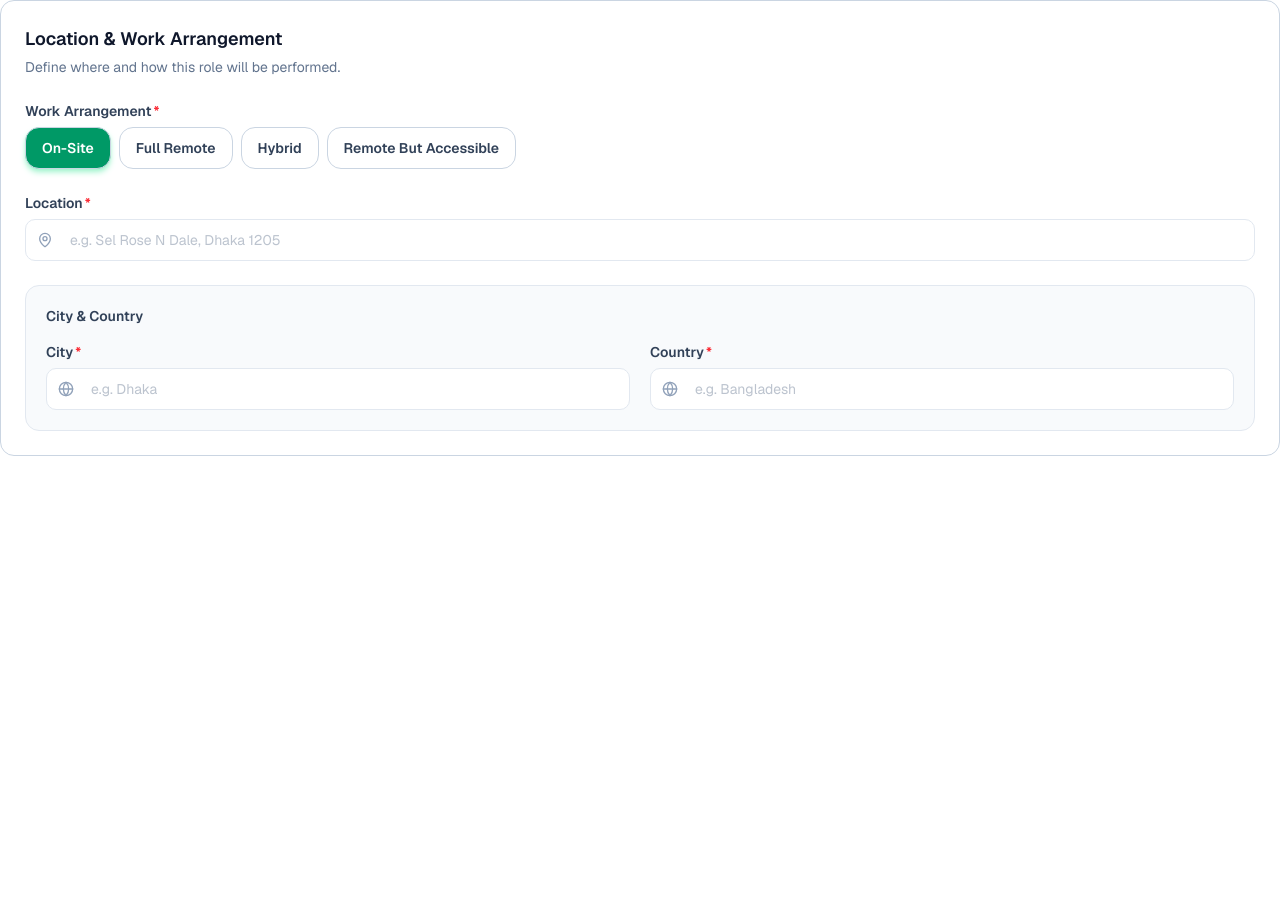
it: Step3Location › shows optional hint for FullRemote
The image size is (1280, 900).
Click the radio button labelled "Full Remote".
click(176, 148)  # box [119,127,233,169]
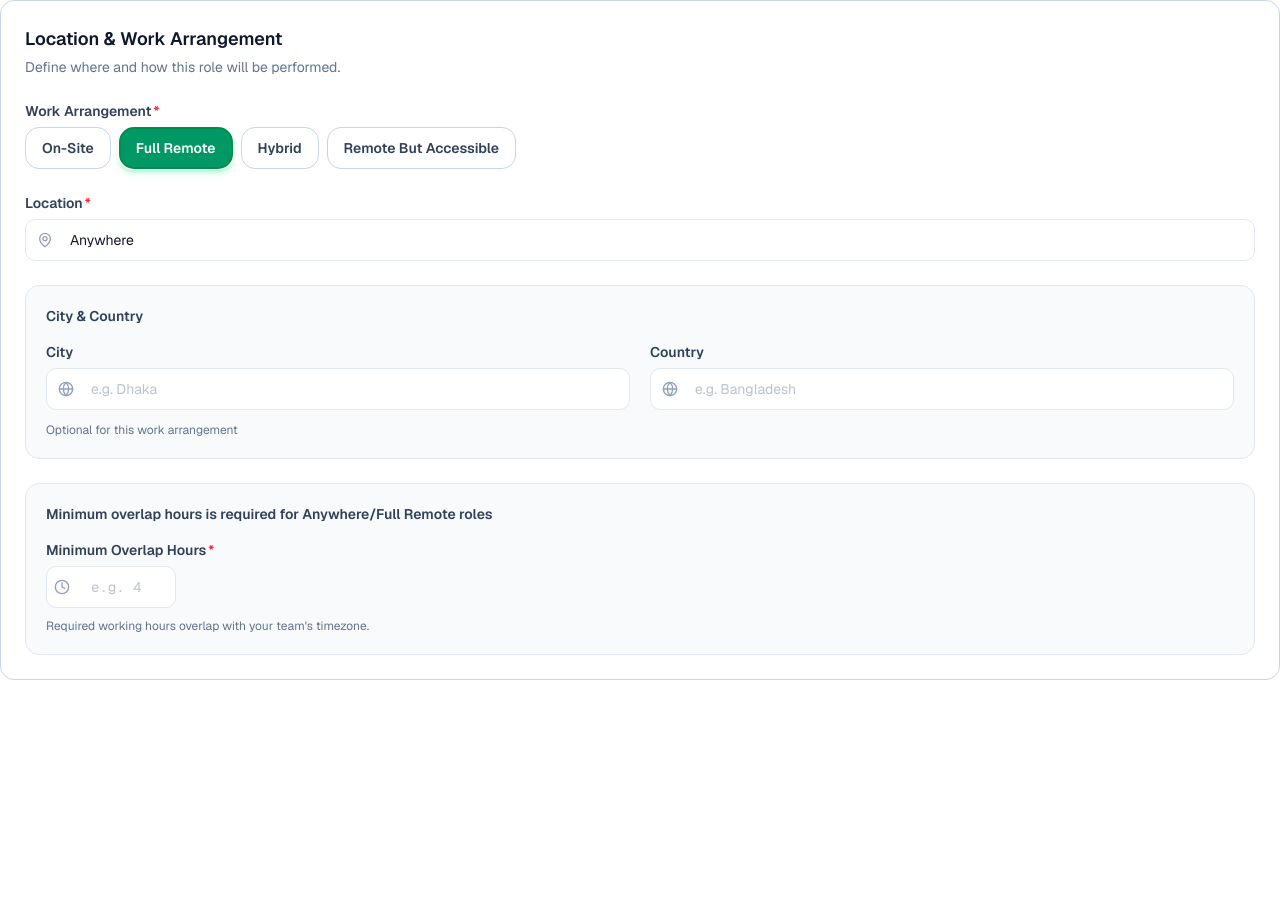
Expected: the text "Optional for this work arrangement" is shown, [46,422,238,438]
